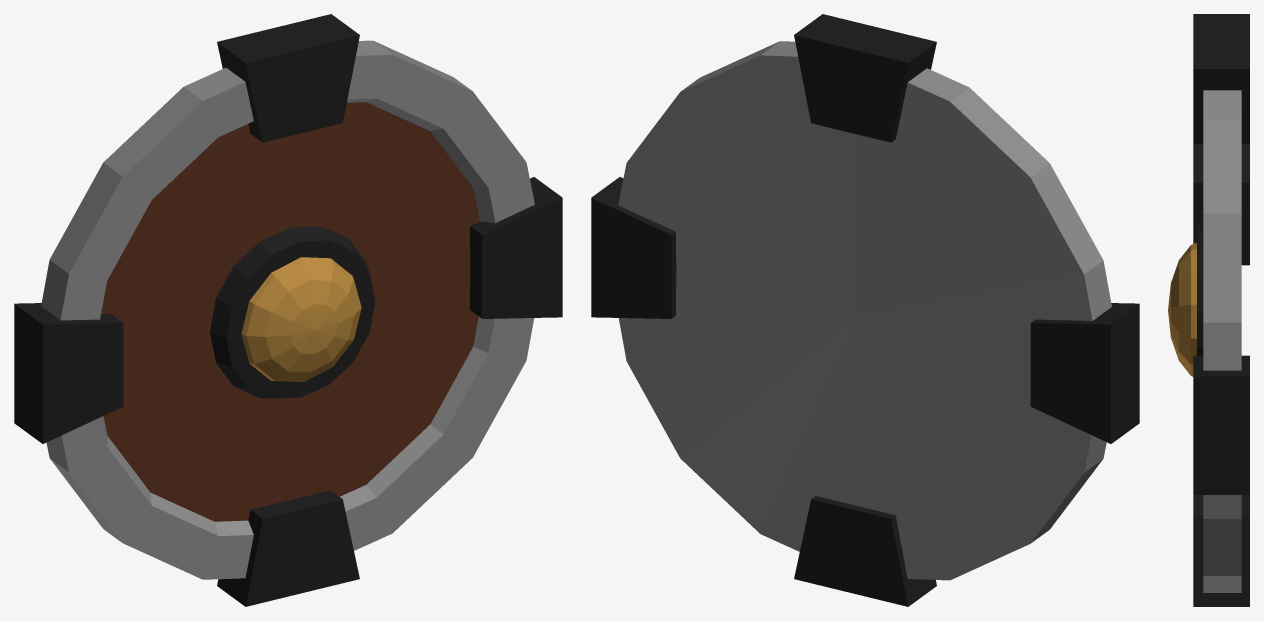
3 renders of one model, left to right at view 1: azimuth 30°, elevation 25°; view 2: azimuth 150°, elevation 25°; view 3: azimuth 270°, elevation 25°, orthographic.
Parts seen in each view (by area): view 1: Shield3; view 2: Shield3; view 3: Shield3.
Boxes of the visible parts, x1,y1,x2,y2 form: Shield3: [14, 14, 562, 606]; Shield3: [591, 14, 1139, 606]; Shield3: [1168, 14, 1249, 606].
Bounding box in the file's own units: 65.55 × 9.05 × 65.55.
Materials: 1 (1 with a texture image).
